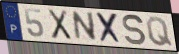5: (23, 7, 45, 39)
N: (71, 11, 98, 42)
Q: (145, 15, 175, 48)
S: (121, 13, 147, 47)
X: (95, 11, 123, 45), (46, 8, 73, 41)
